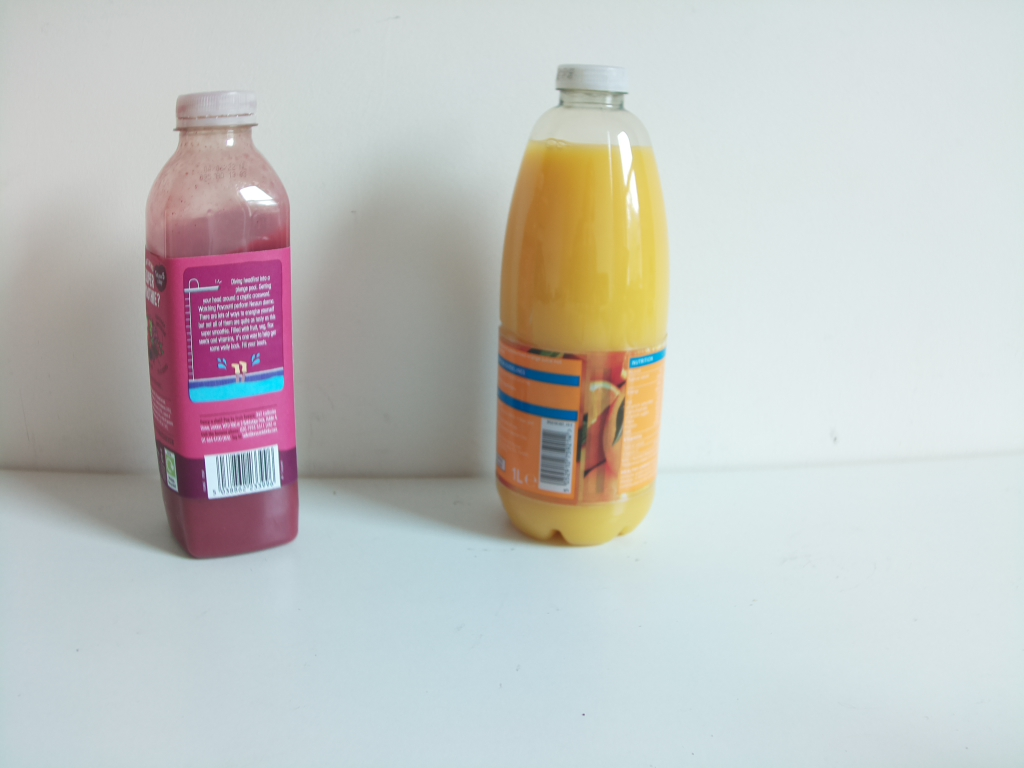juice: (482, 59, 677, 556), (140, 84, 301, 566)
